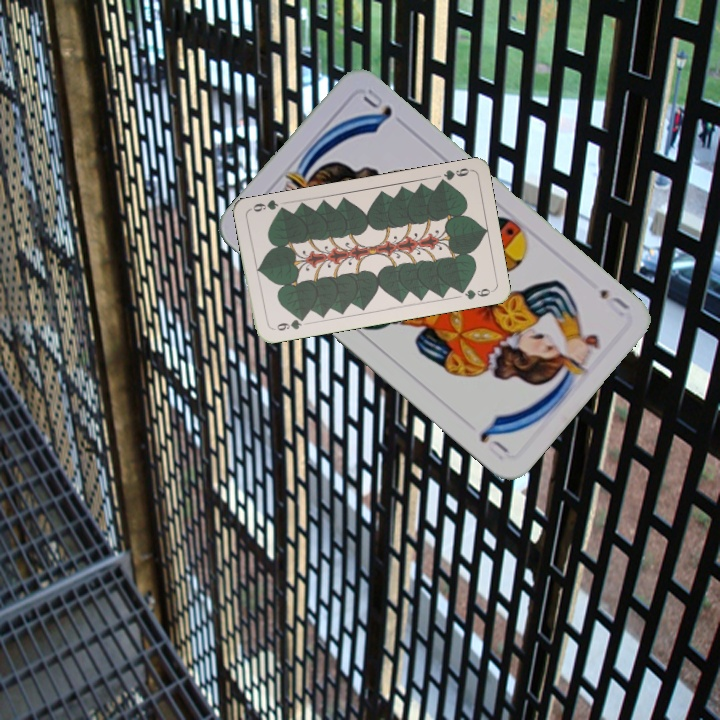G9: (434, 164, 473, 187), (268, 313, 308, 333)
SU: (595, 285, 633, 320)
